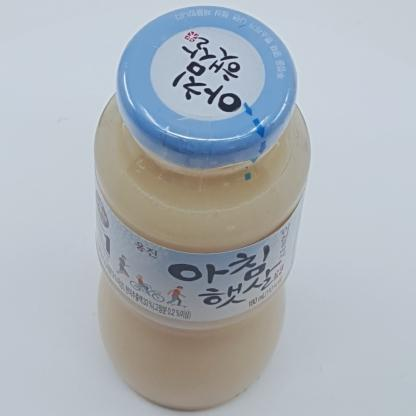------180ML: (94, 6, 311, 410)
